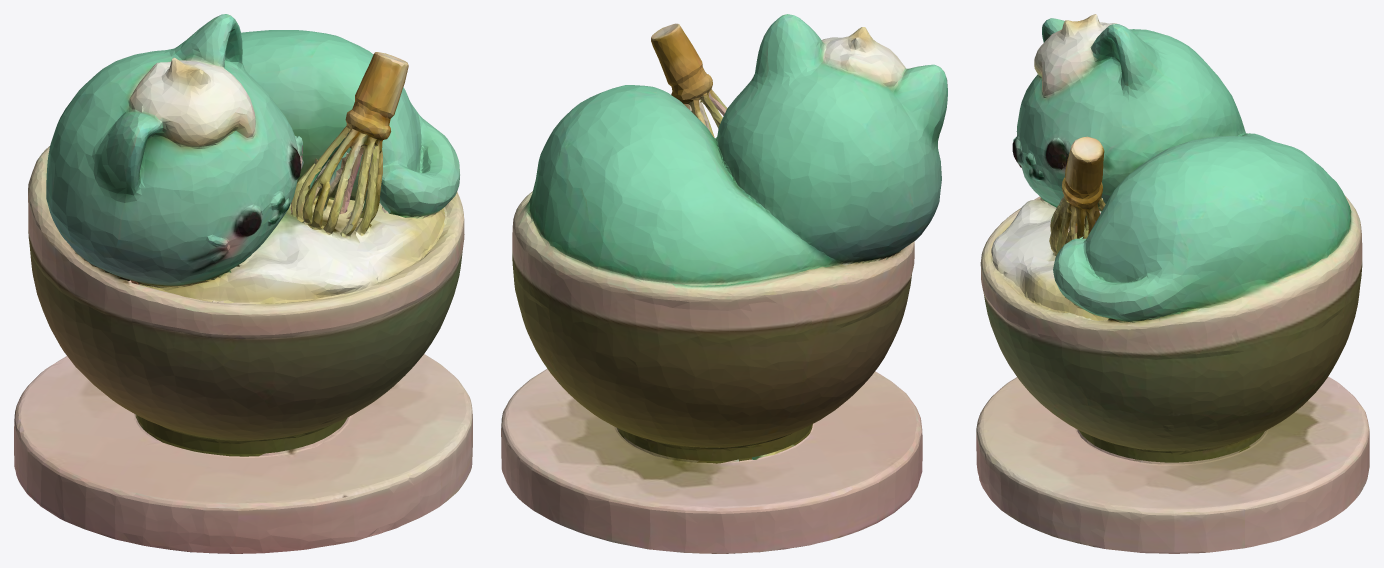
Rendered from fig-19.glb.
3 views of the same model, side by side, from view 1: azimuth 30°, elevation 25°; view 2: azimuth 150°, elevation 25°; view 3: azimuth 270°, elevation 25° (orthographic). The views are drawn at different scales.
Visible parts, largest first — view 1: tmpmc707sno.ply; view 2: tmpmc707sno.ply; view 3: tmpmc707sno.ply.
Boxes of the visible parts, x1,y1,x2,y2 form: tmpmc707sno.ply: (14, 14, 472, 553); tmpmc707sno.ply: (501, 14, 947, 553); tmpmc707sno.ply: (976, 14, 1369, 553).
Size of the model in its own units: 1.76 by 1.99 by 1.68.
Materials: 1 (1 with a texture image).
